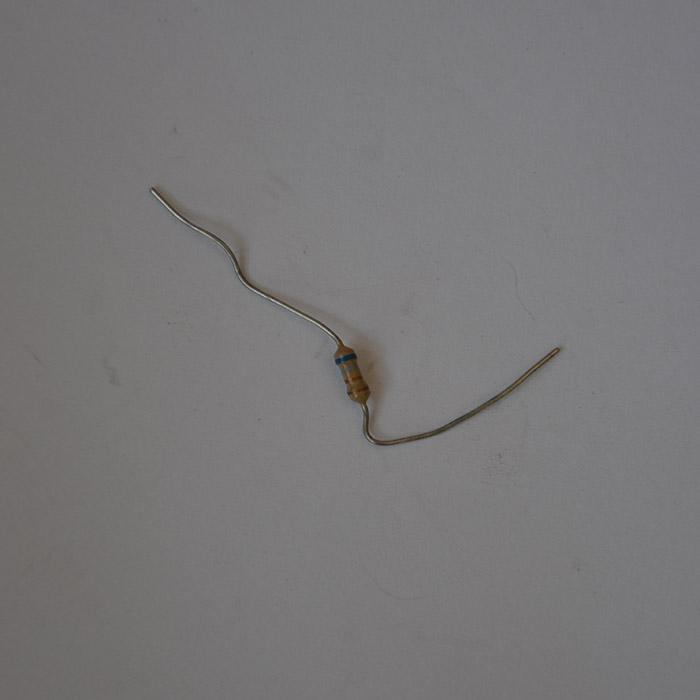resistor: (332, 343, 368, 404)
